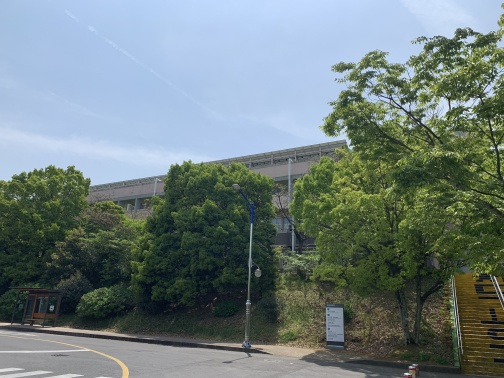College Of Education: (73, 129, 361, 269)
